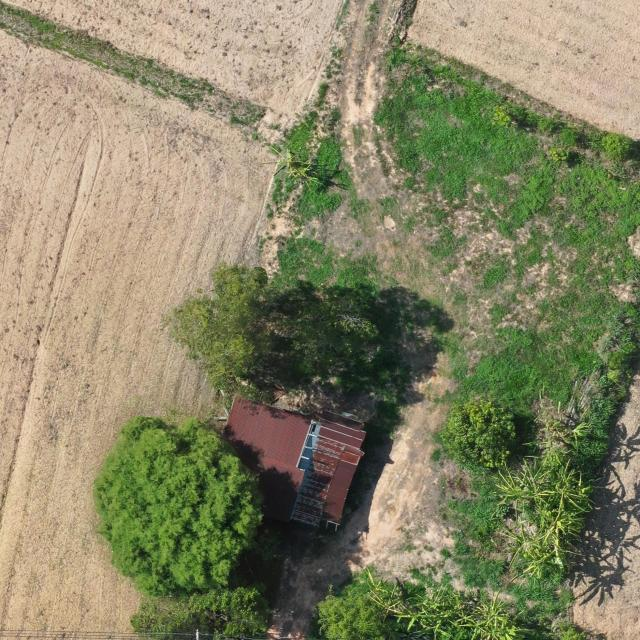Tree: (90, 412, 264, 592), (169, 262, 269, 393), (129, 585, 270, 640), (443, 402, 516, 471), (315, 592, 391, 640), (261, 146, 300, 176), (292, 161, 325, 190)
